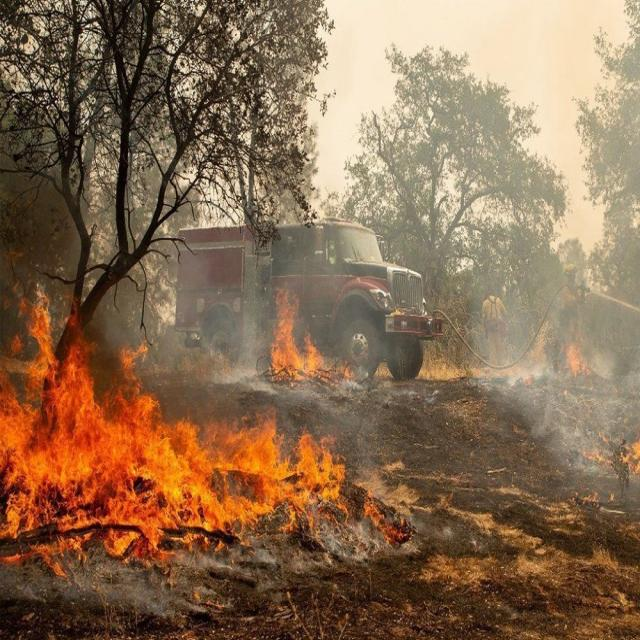fire: (3, 374, 195, 555), (202, 416, 341, 532), (274, 296, 325, 379)
